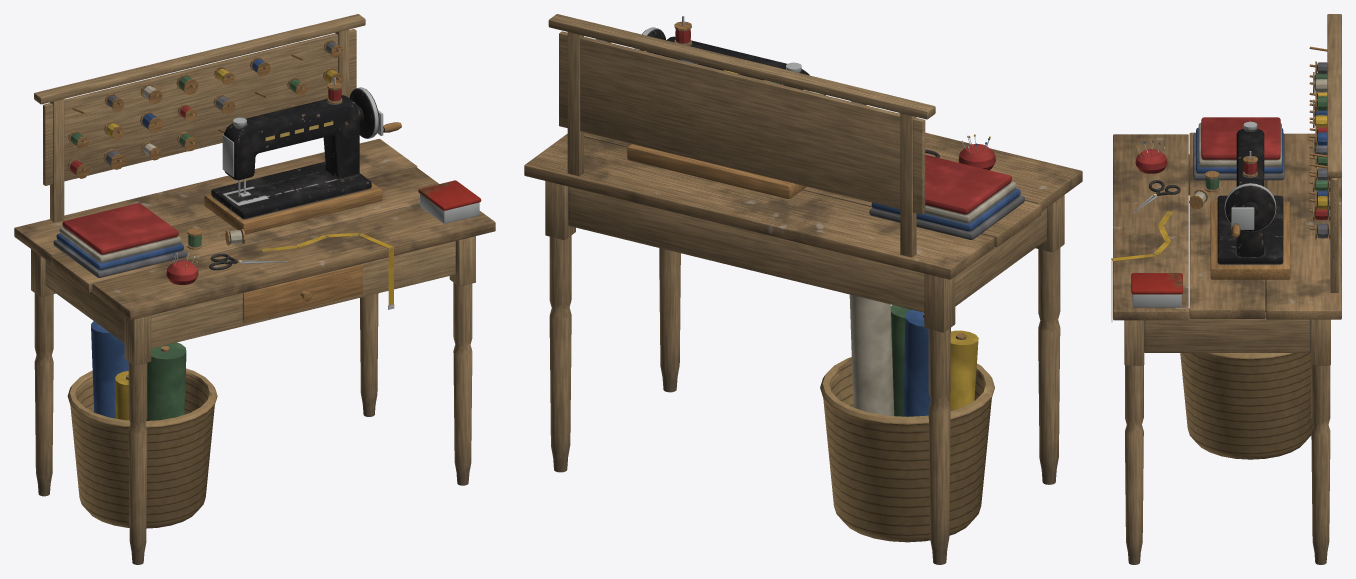
The model's file is bancada_costura.glb.
3 views of the same model, side by side, from view 1: azimuth 30°, elevation 25°; view 2: azimuth 150°, elevation 25°; view 3: azimuth 270°, elevation 25° (orthographic). The views are drawn at different scales.
Parts seen in each view (by area): view 1: mesa, tampo, cesto, maquina, miudezas, linhas; view 2: mesa, cesto, tampo, miudezas, maquina; view 3: tampo, mesa, cesto, maquina, miudezas, linhas.
Boxes of the visible parts, box(x1,y1,x2,y2) form: mesa: box(31, 14, 475, 564); tampo: box(14, 139, 495, 319); cesto: box(67, 321, 217, 528); maquina: box(204, 77, 401, 234); miudezas: box(53, 180, 481, 309); linhas: box(67, 40, 343, 178); mesa: box(545, 14, 1064, 564); cesto: box(820, 294, 994, 542); tampo: box(524, 132, 1082, 279); miudezas: box(869, 134, 1024, 239); maquina: box(627, 16, 809, 198); tampo: box(1113, 132, 1341, 320); mesa: box(1124, 14, 1341, 564); cesto: box(1180, 279, 1313, 459); maquina: box(1210, 121, 1290, 279); miudezas: box(1111, 117, 1284, 321); linhas: box(1309, 46, 1330, 239).
Bounding box in the file's own units: 1.11 × 1.13 × 0.606.
3 materials, 3 textured.
